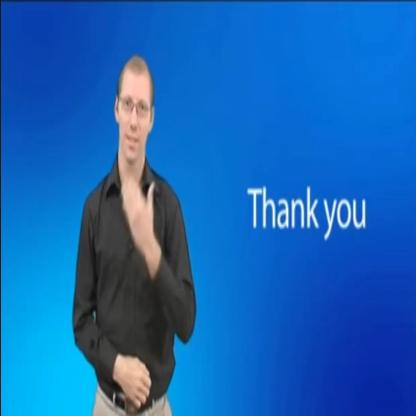ThankYou: (100, 42, 187, 316)
